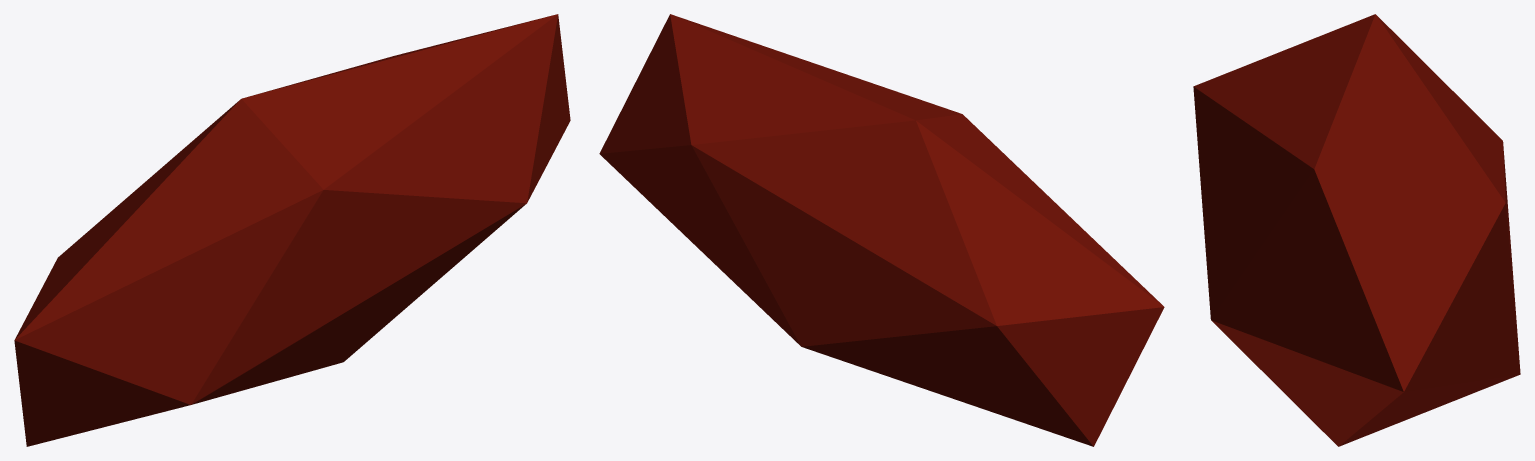
The model's file is Platonic_8.gltf.
3 renders of one model, left to right at view 1: azimuth 30°, elevation 25°; view 2: azimuth 150°, elevation 25°; view 3: azimuth 270°, elevation 25°, orthographic. The views are drawn at different scales.
Visible parts, largest first — view 1: Platonic_8; view 2: Platonic_8; view 3: Platonic_8.
Boxes of the visible parts, box(x1,y1,x2,y2) form: Platonic_8: box(14, 14, 570, 446); Platonic_8: box(599, 14, 1164, 446); Platonic_8: box(1193, 14, 1520, 446).
Bounding box in the file's own units: 33.46 × 18.07 × 11.8.
